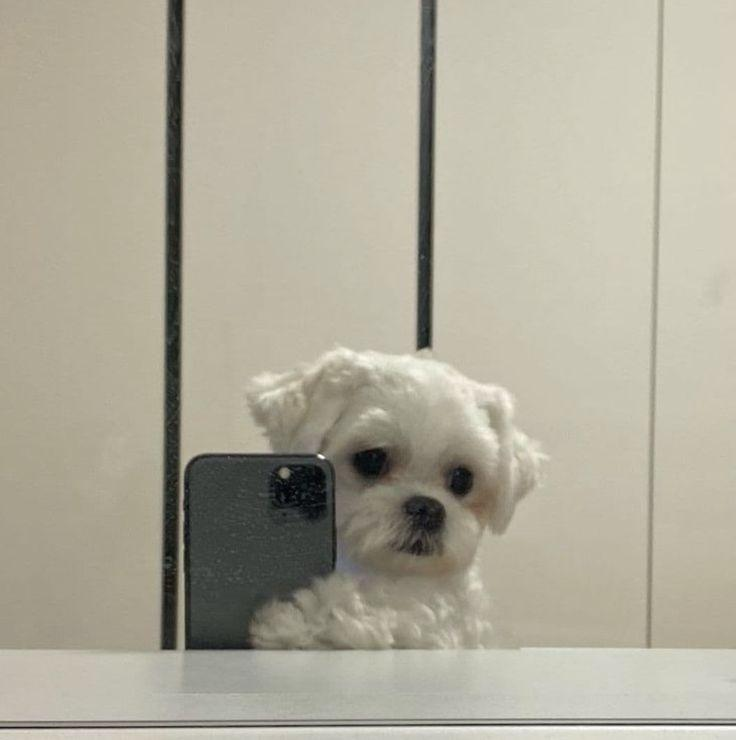puppy-dog: (240, 340, 550, 652)
